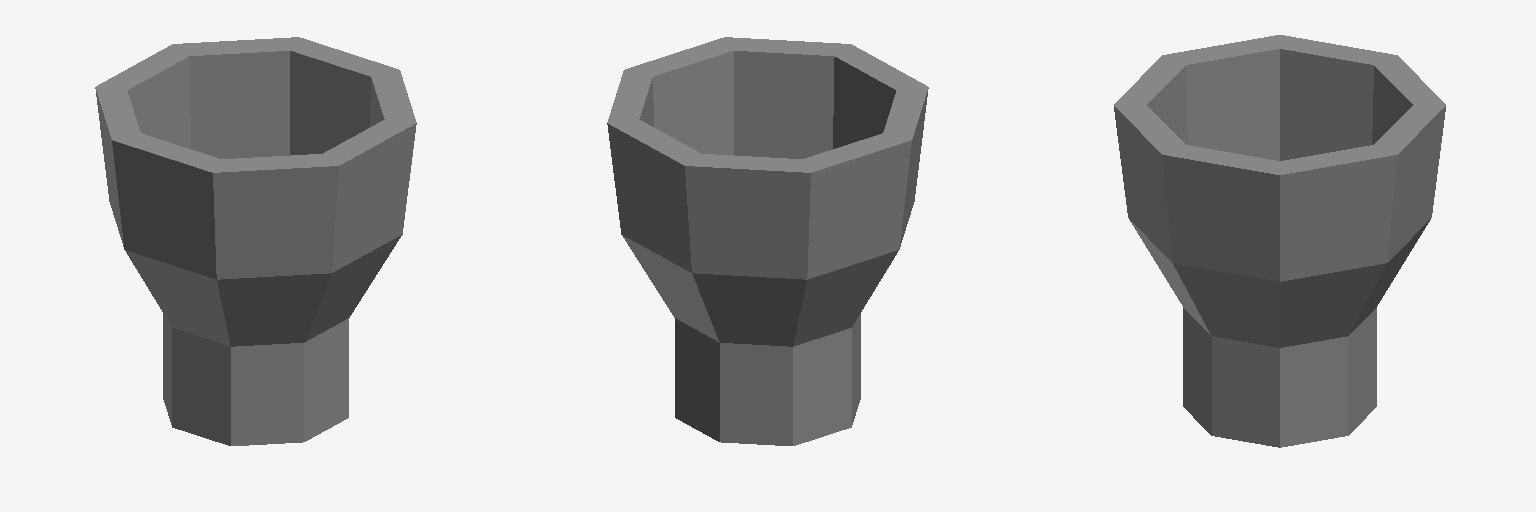
The model's file is Sundae_cone.obj.
3 views of the same model, side by side, from view 1: azimuth 30°, elevation 25°; view 2: azimuth 150°, elevation 25°; view 3: azimuth 270°, elevation 25° (orthographic).
Parts seen in each view (by area): view 1: g pCylinder23_pCylinder23_pCylinder23_pCylinder23; view 2: g pCylinder23_pCylinder23_pCylinder23_pCylinder23; view 3: g pCylinder23_pCylinder23_pCylinder23_pCylinder23.
Part boxes in pixels (x1,y1,x2,y2): g pCylinder23_pCylinder23_pCylinder23_pCylinder23: (95, 37, 416, 445); g pCylinder23_pCylinder23_pCylinder23_pCylinder23: (607, 37, 928, 445); g pCylinder23_pCylinder23_pCylinder23_pCylinder23: (1114, 35, 1445, 447).
Bounding box in the file's own units: 3.44 × 3.44 × 3.44.